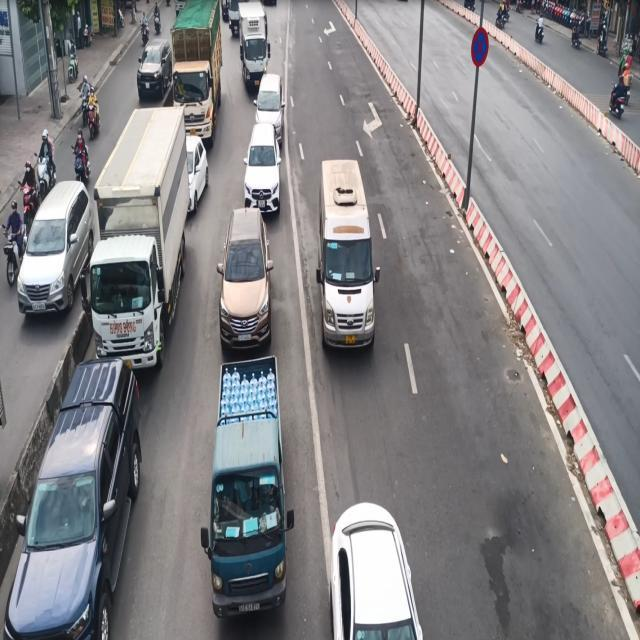car: (2, 356, 142, 639), (329, 501, 424, 639), (315, 158, 380, 351), (215, 207, 274, 352)
motorcycle: (608, 81, 629, 118)
truck: (82, 105, 190, 370), (199, 355, 292, 618)
